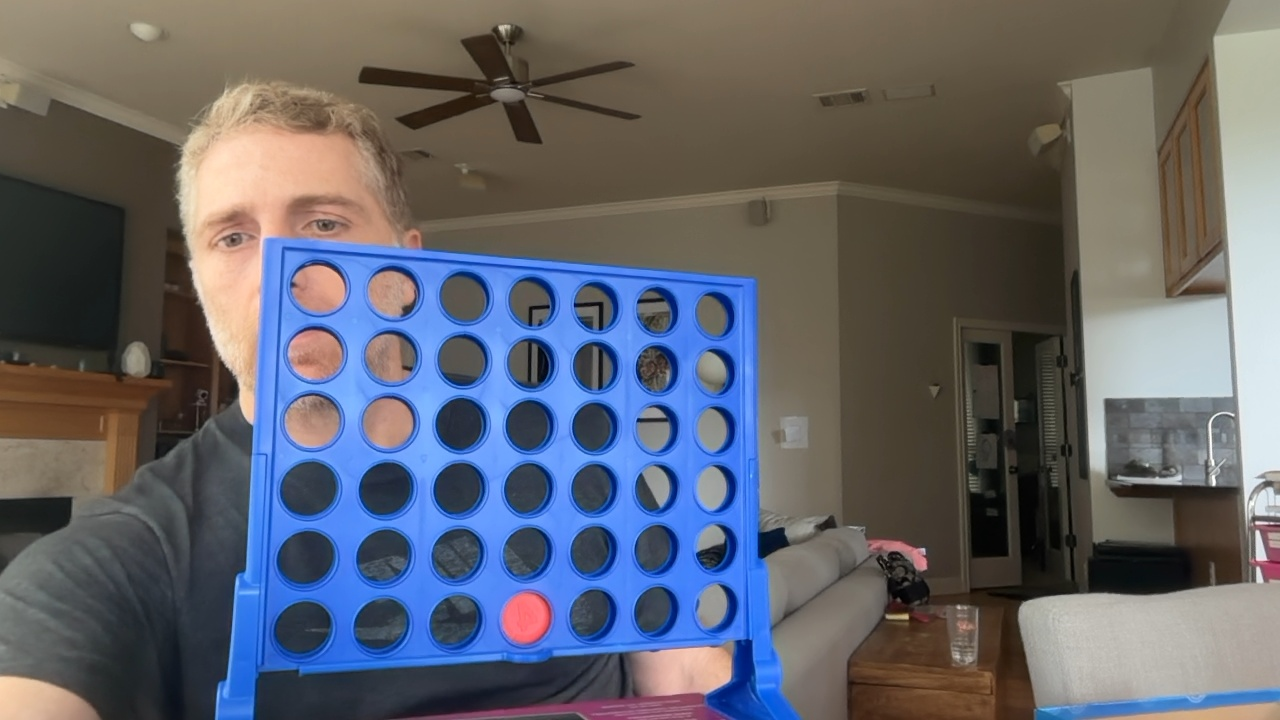red piece: (501, 591, 551, 644)
